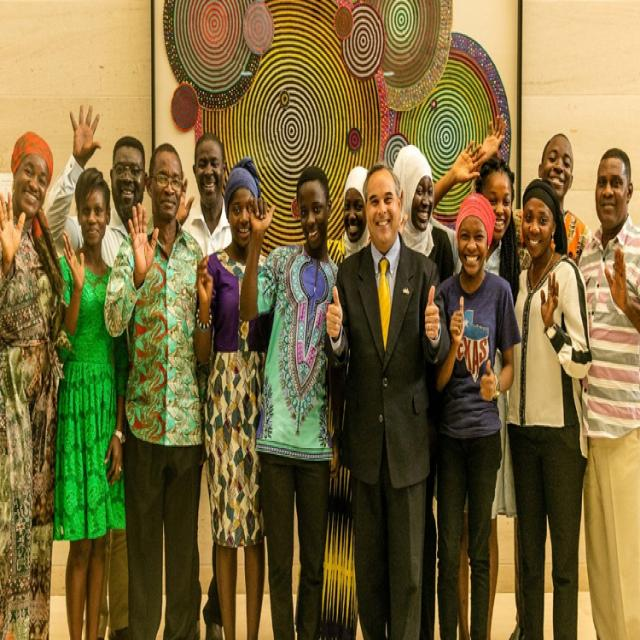body: (322, 162, 452, 639), (43, 101, 149, 640), (103, 141, 208, 640), (238, 164, 346, 638), (429, 135, 525, 640), (428, 189, 523, 639), (505, 177, 595, 638), (192, 163, 275, 640), (0, 125, 73, 638), (51, 162, 128, 639), (578, 146, 640, 639), (478, 113, 590, 274), (391, 142, 456, 286), (178, 129, 235, 259), (342, 163, 372, 259)
